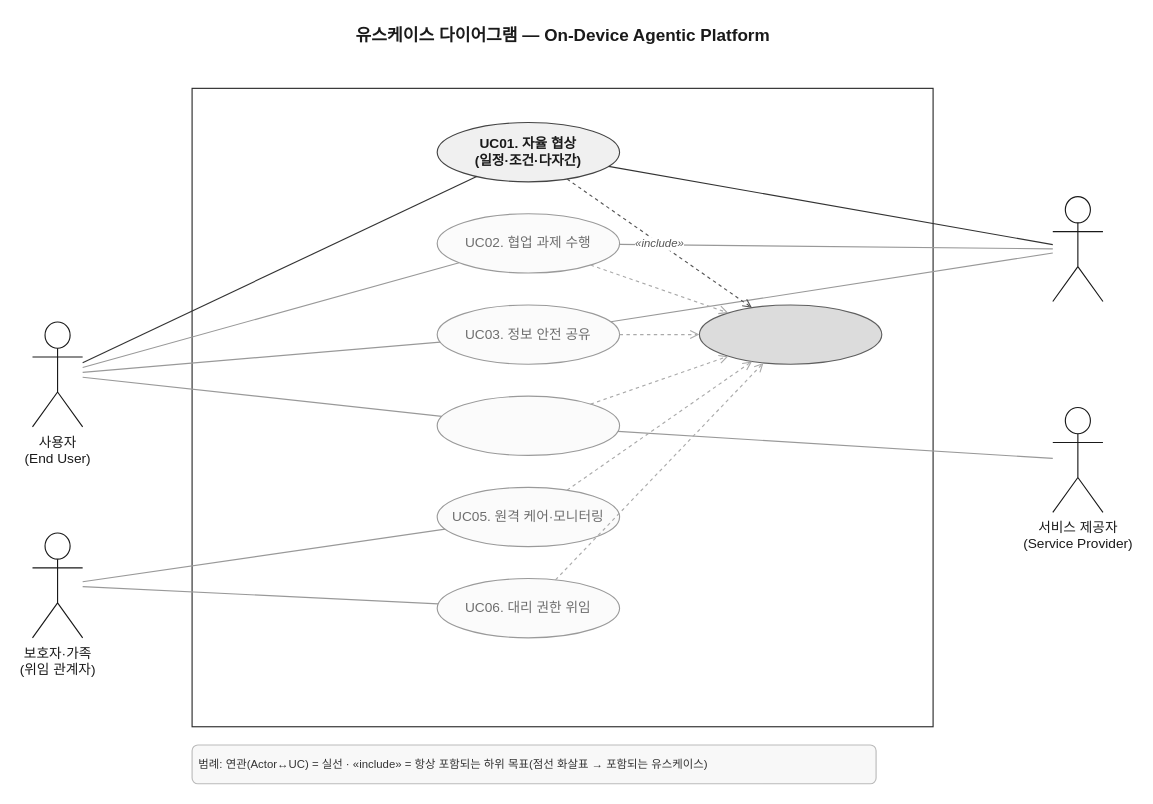
Image size: 1153x804. Some labels were removed from this diagram. The shapes that lost their labels are listed below. From the top down, each one's box as (x1, y1, x2, y2) in pixels, then its label:
(1052, 196, 1103, 302): 상대 사용자 (Counterparty)
(698, 304, 882, 364): UC07. 상대 에이전트 탐색·인증
(436, 395, 620, 455): UC04. 서비스 예약·이행
(191, 87, 933, 727): On-Device Agentic Platform (IDS + MAF)
